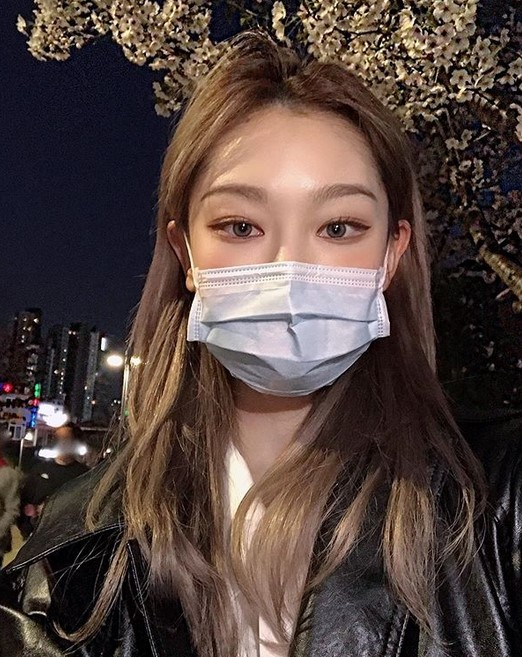face_with_mask: (163, 47, 414, 401)
